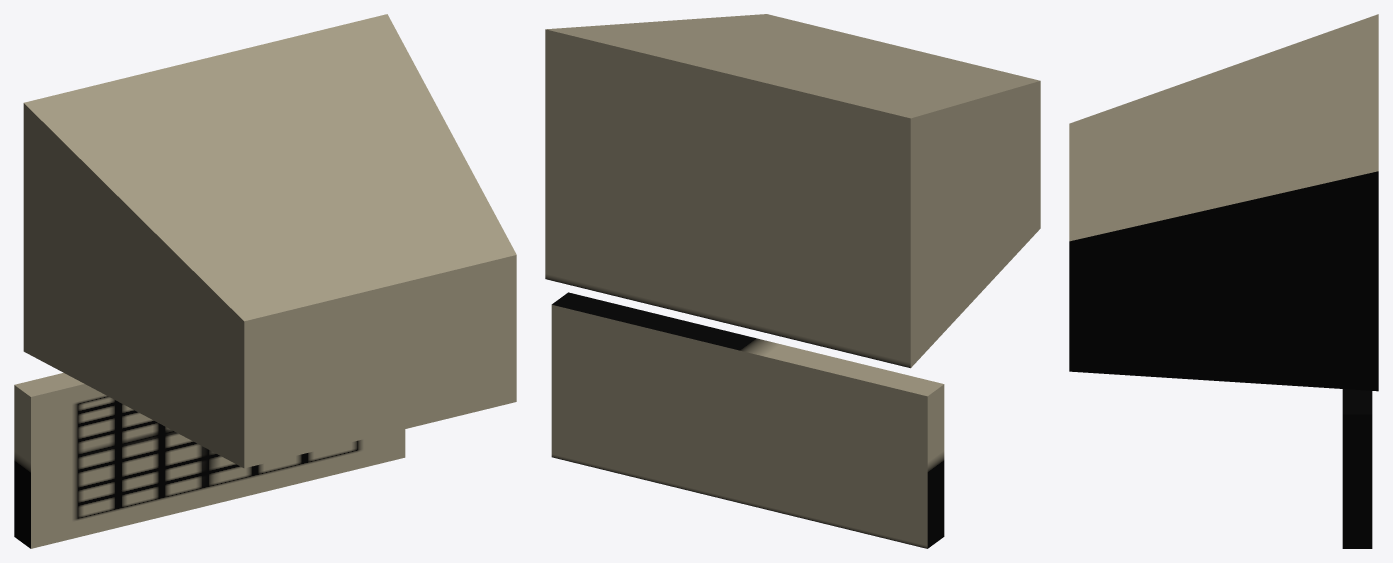
Rendered from ObjectComputer.obj.
3 views of the same model, side by side, from view 1: azimuth 30°, elevation 25°; view 2: azimuth 150°, elevation 25°; view 3: azimuth 270°, elevation 25° (orthographic). The views are drawn at different scales.
Parts seen in each view (by area): view 1: Cube, Cube.001; view 2: Cube, Cube.001; view 3: Cube, Cube.001.
Part boxes in pixels (<box>): Cube: <box>23,14,516,468</box>; Cube.001: <box>14,373,405,548</box>; Cube: <box>545,14,1040,368</box>; Cube.001: <box>551,292,944,548</box>; Cube: <box>1069,14,1378,391</box>; Cube.001: <box>1342,389,1372,548</box>.
Size of the model in its own units: 2.07 by 2.25 by 1.67.
